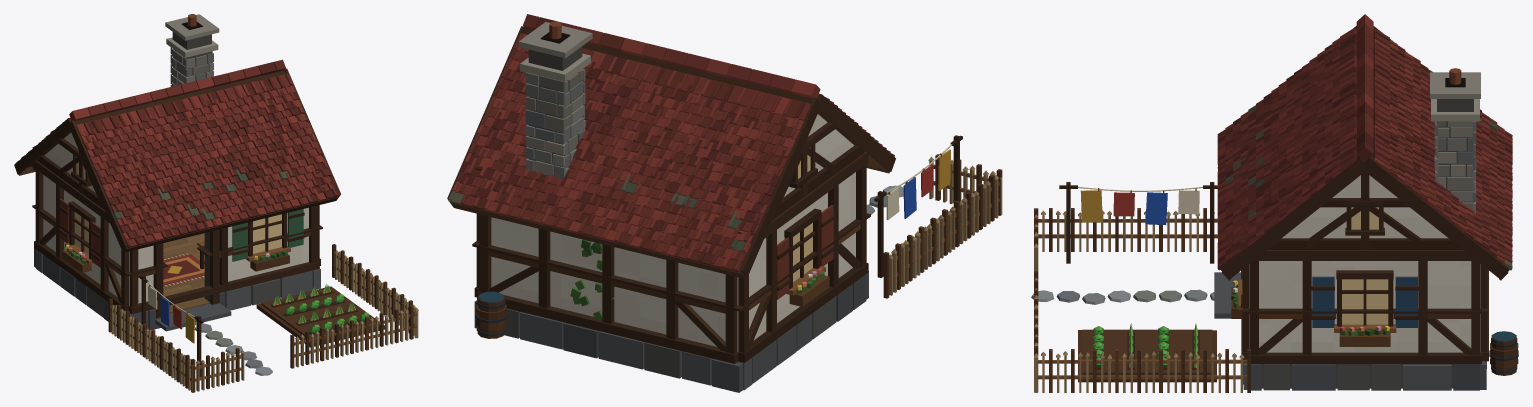
File: cottage-3.glb
3 views of the same model, side by side, from view 1: azimuth 30°, elevation 25°; view 2: azimuth 150°, elevation 25°; view 3: azimuth 270°, elevation 25° (orthographic). The views are drawn at different scales.
Parts seen in each view (by area): view 1: cottage-3_shell, cottage-3_interior, cottage-3_glass, cottage-3_cap; view 2: cottage-3_shell, cottage-3_interior, cottage-3_cap, cottage-3_glass; view 3: cottage-3_shell, cottage-3_interior, cottage-3_glass, cottage-3_cap.
Part boxes in pixels (left/top/right/bottom): cottage-3_shell: left=14, top=14, right=340, bottom=331; cottage-3_interior: left=108, top=233, right=418, bottom=392; cottage-3_glass: left=74, top=157, right=281, bottom=254; cottage-3_cap: left=32, top=204, right=322, bottom=276; cottage-3_shell: left=447, top=14, right=895, bottom=392; cottage-3_interior: left=475, top=135, right=1002, bottom=338; cottage-3_cap: left=472, top=213, right=870, bottom=311; cottage-3_glass: left=793, top=147, right=812, bottom=282; cottage-3_shell: left=1214, top=14, right=1512, bottom=390; cottage-3_interior: left=1031, top=182, right=1518, bottom=392; cottage-3_glass: left=1342, top=207, right=1388, bottom=324; cottage-3_cap: left=1242, top=269, right=1487, bottom=313.
Bounding box in the file's own units: 7.3 × 6.92 × 10.52.
